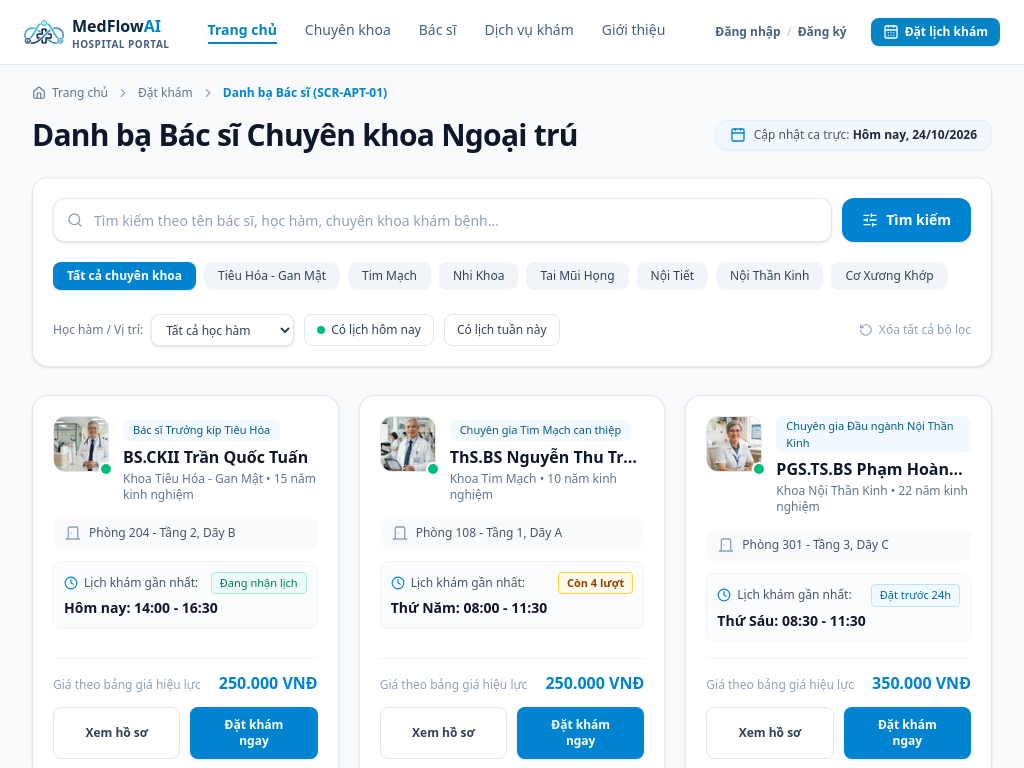
DoctorSearchPage (SCR-APT-01) › filters doctors when toggling Có lịch hôm nay
Expected: the heading "BS.CKII Trần Quốc Tuấn" is shown, [123,444,318,468]
Click the button "Có lịch hôm nay". click: coordinates (369, 330)
box: [304,314,434,346]
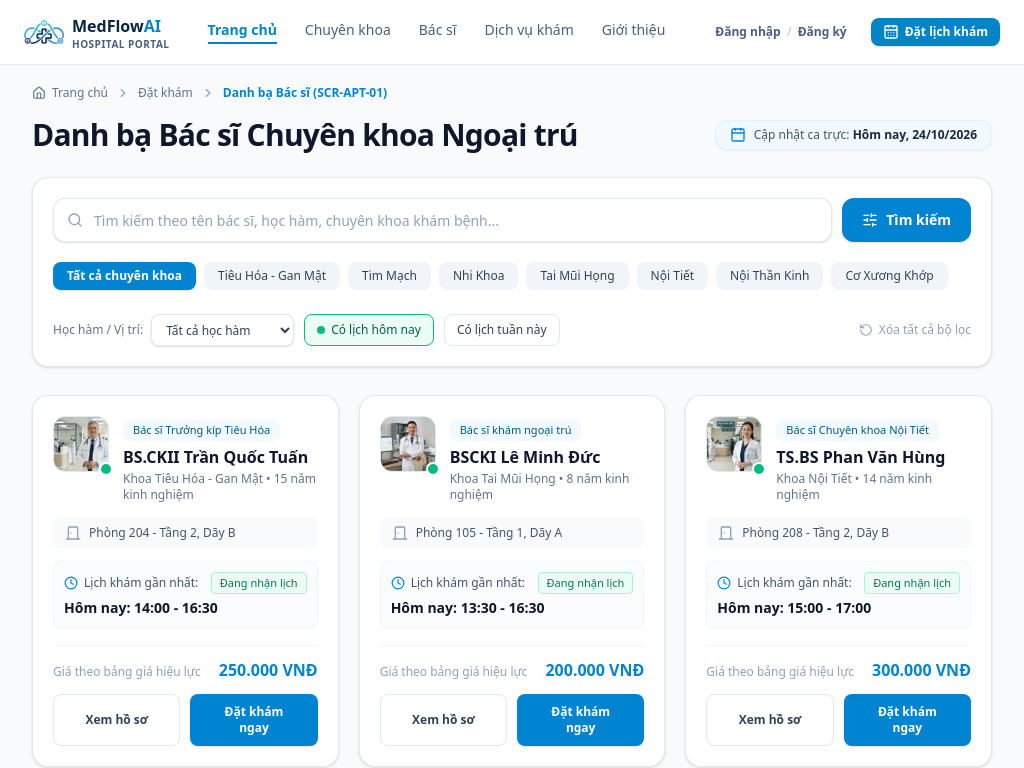
Expected: the heading "BS.CKII Trần Quốc Tuấn" is shown, [123,444,318,468]
Expected: the heading "ThS.BS Nguyễn Thu Trang" is gone
